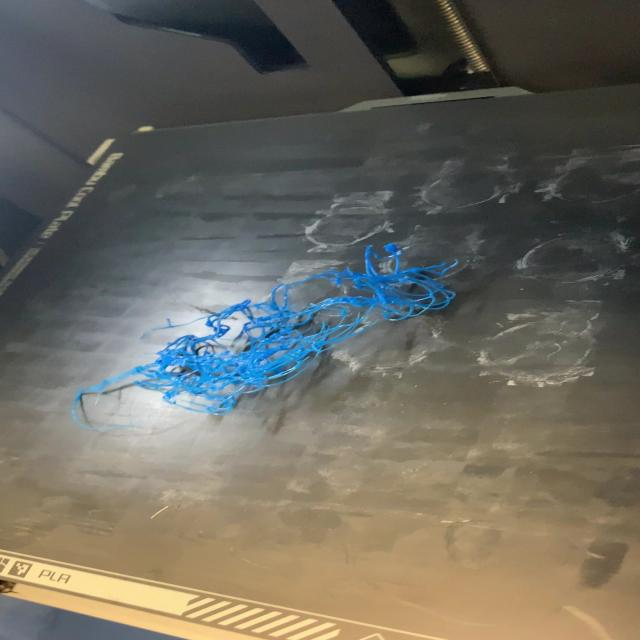spaghetti: (68, 240, 468, 435)
